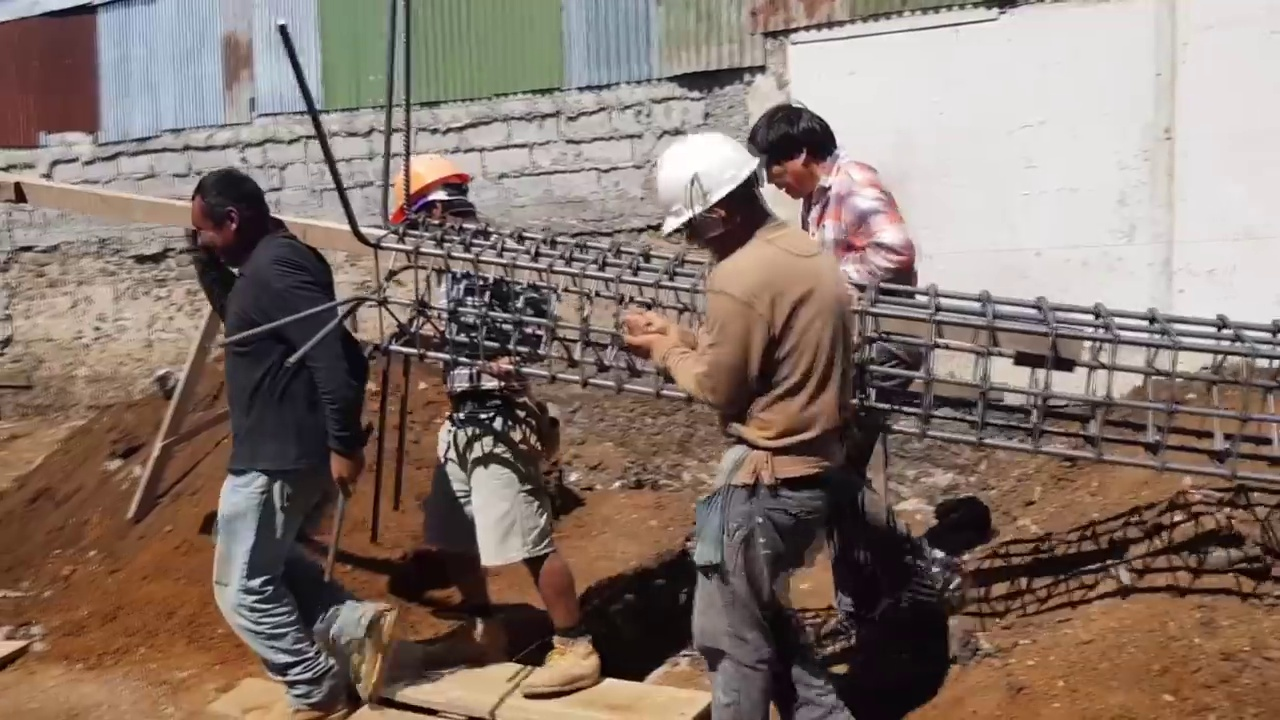helmet: (652, 129, 754, 230), (387, 157, 469, 213)
helmet-off: (747, 97, 841, 204), (182, 163, 267, 271)
helmet-on: (649, 124, 783, 267), (385, 143, 486, 249)
person: (619, 128, 861, 720), (750, 96, 969, 665), (385, 147, 602, 703), (174, 160, 372, 717)
